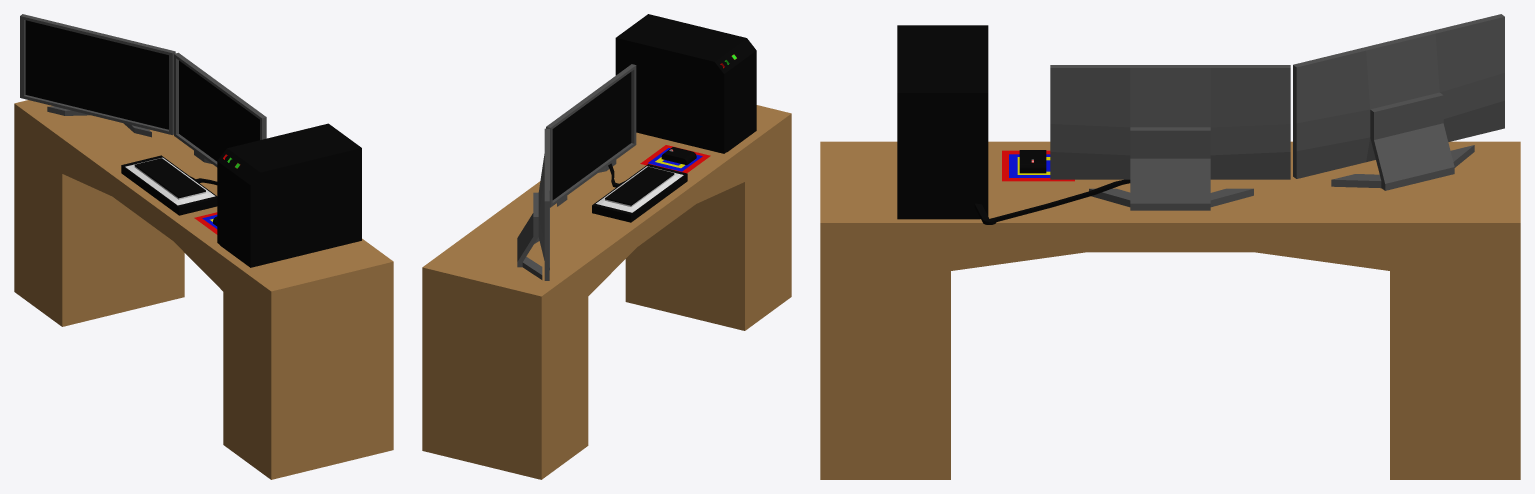
File: buruea.fbx
3 views of the same model, side by side, from view 1: azimuth 30°, elevation 25°; view 2: azimuth 150°, elevation 25°; view 3: azimuth 270°, elevation 25° (orthographic). The views are drawn at different scales.
Parts seen in each view (by area): view 1: bureau; view 2: bureau; view 3: bureau.
Boxes of the visible parts, box(x1,y1,x2,y2) form: bureau: box(14, 14, 393, 479); bureau: box(422, 14, 791, 479); bureau: box(820, 14, 1520, 479).
Bounding box in the file's own units: 1028 × 2052 × 3386.
